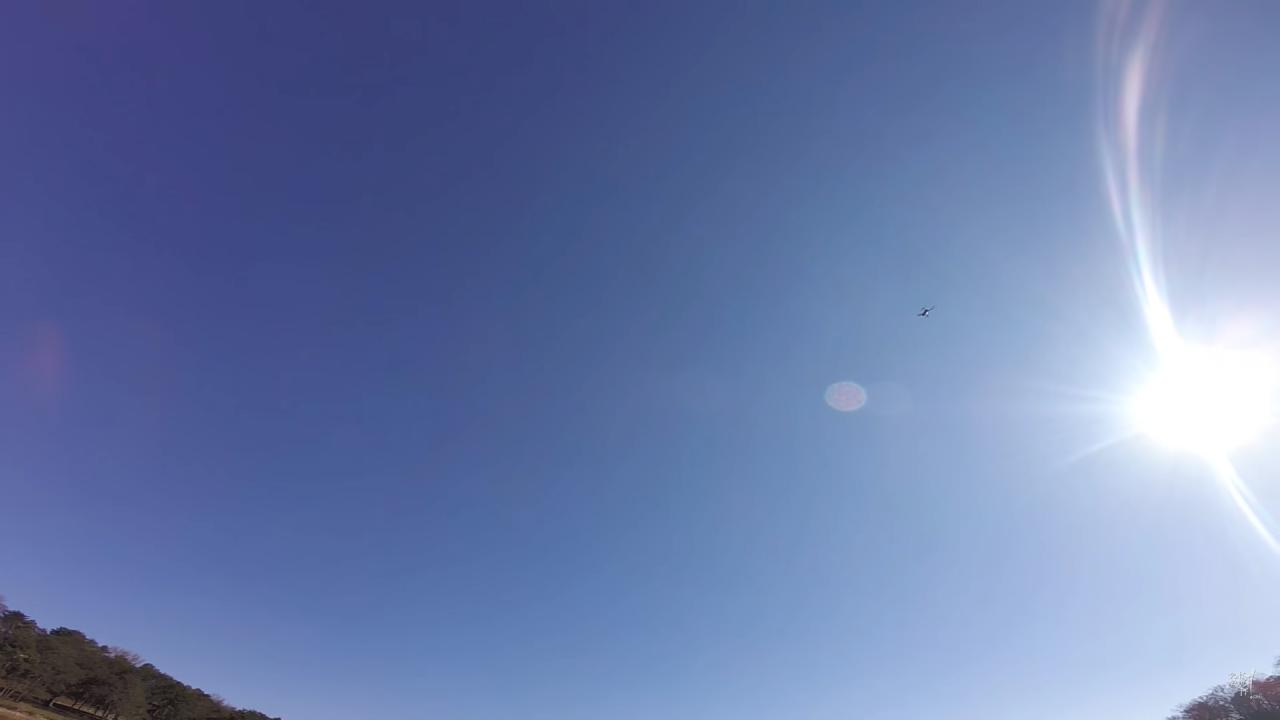Drone: (908, 298, 943, 327)
